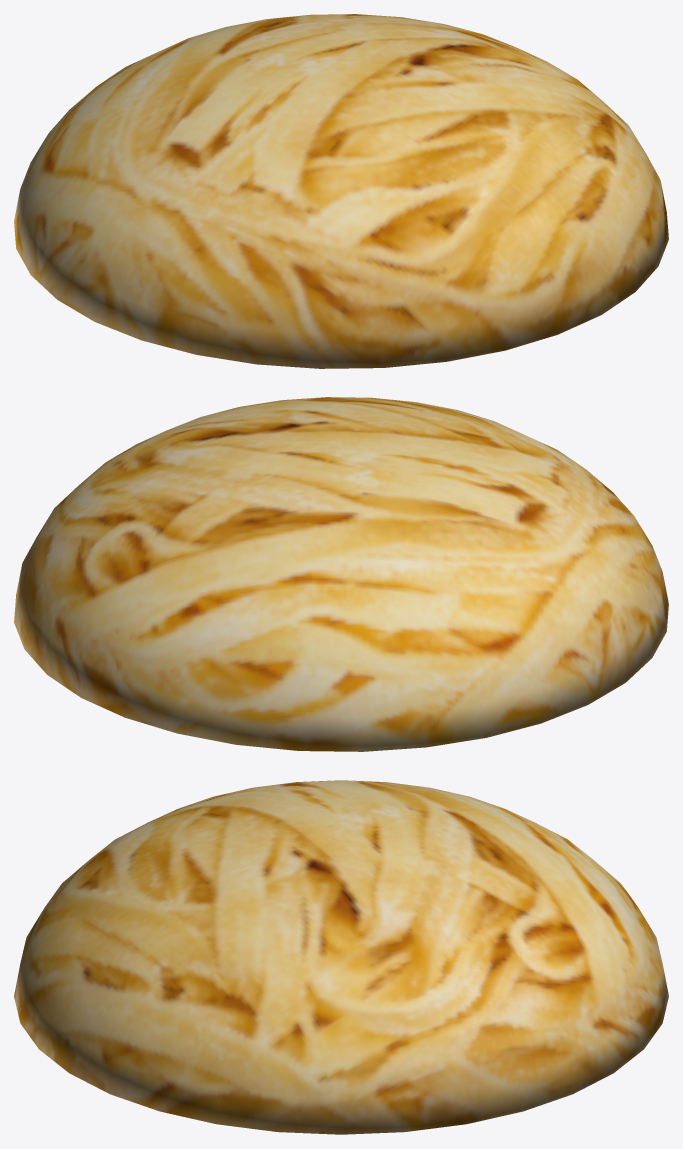
The model's file is VFX_HomemadePasta.fbx.
3 renders of one model, top to bottom at view 1: azimuth 30°, elevation 25°; view 2: azimuth 150°, elevation 25°; view 3: azimuth 270°, elevation 25°, orthographic.
Parts seen in each view (by area): view 1: Homemade Pasta; view 2: Homemade Pasta; view 3: Homemade Pasta.
Boxes of the visible parts, x1=… form: Homemade Pasta: x1=14, y1=14, x2=668, y2=368; Homemade Pasta: x1=14, y1=397, x2=668, y2=751; Homemade Pasta: x1=14, y1=780, x2=668, y2=1134.
Bounding box in the file's own units: 0.1485 × 0.0419 × 0.1485.
